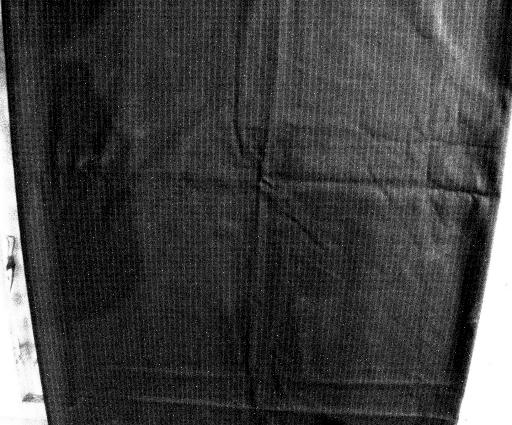fabric_perfect: (2, 0, 508, 422)
